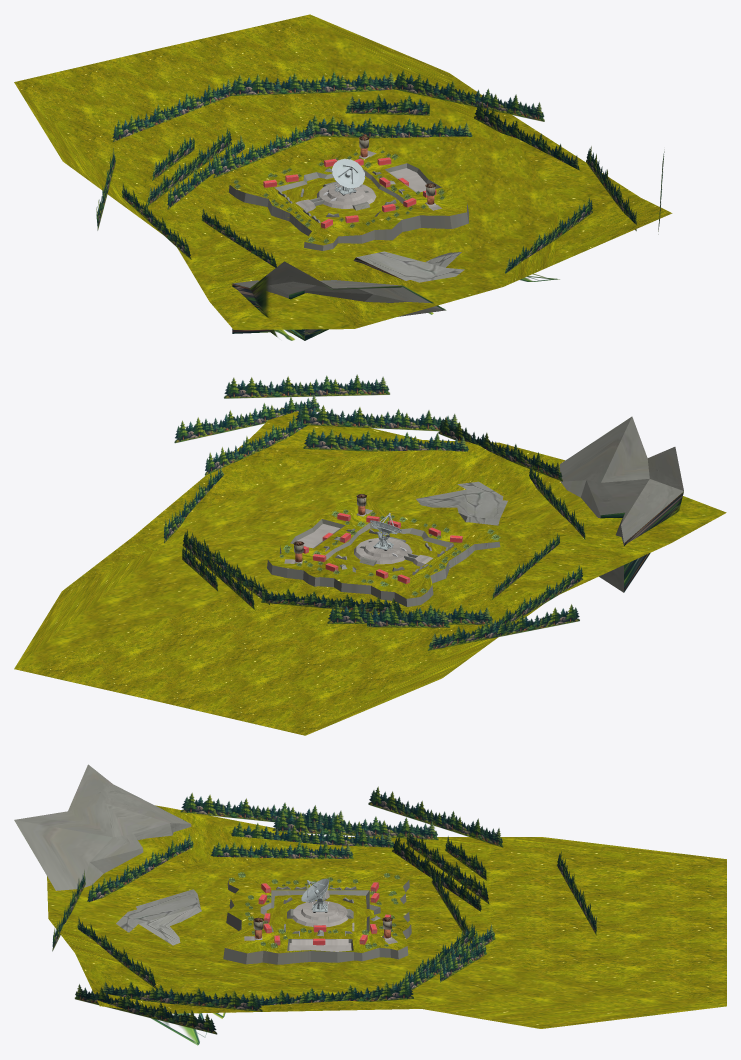
Rendered from TL_signal_map.glb.
3 views of the same model, one above another, from view 1: azimuth 30°, elevation 25°; view 2: azimuth 150°, elevation 25°; view 3: azimuth 270°, elevation 25° (orthographic).
Parts seen in each view (by area): view 1: Cube.010, bush_solid.001; view 2: Cube.010, bush_solid.001; view 3: Cube.010, bush_solid.001.
Boxes of the visible parts, x1,y1,x2,y2 form: Cube.010: (14,14,672,340); bush_solid.001: (122,183,191,259); Cube.010: (14,374,726,735); bush_solid.001: (489,565,582,628); Cube.010: (14,764,726,1045); bush_solid.001: (272,811,438,840).
Size of what is drawn, in the model's own units: 8.79 by 2.27 by 10.92.
Materials: 13 (13 with a texture image).
